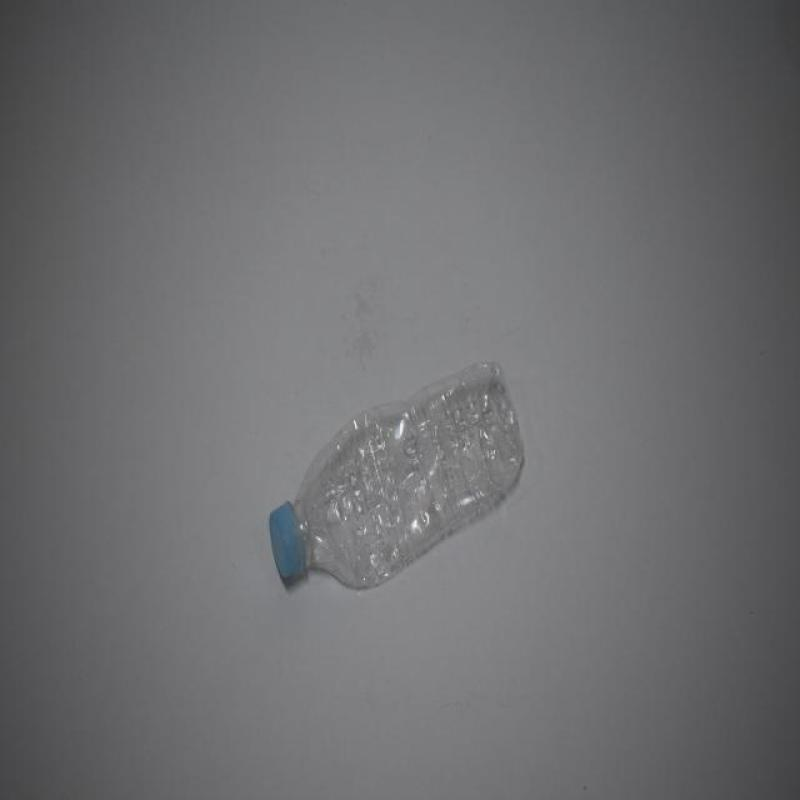botella: (267, 364, 527, 591)
